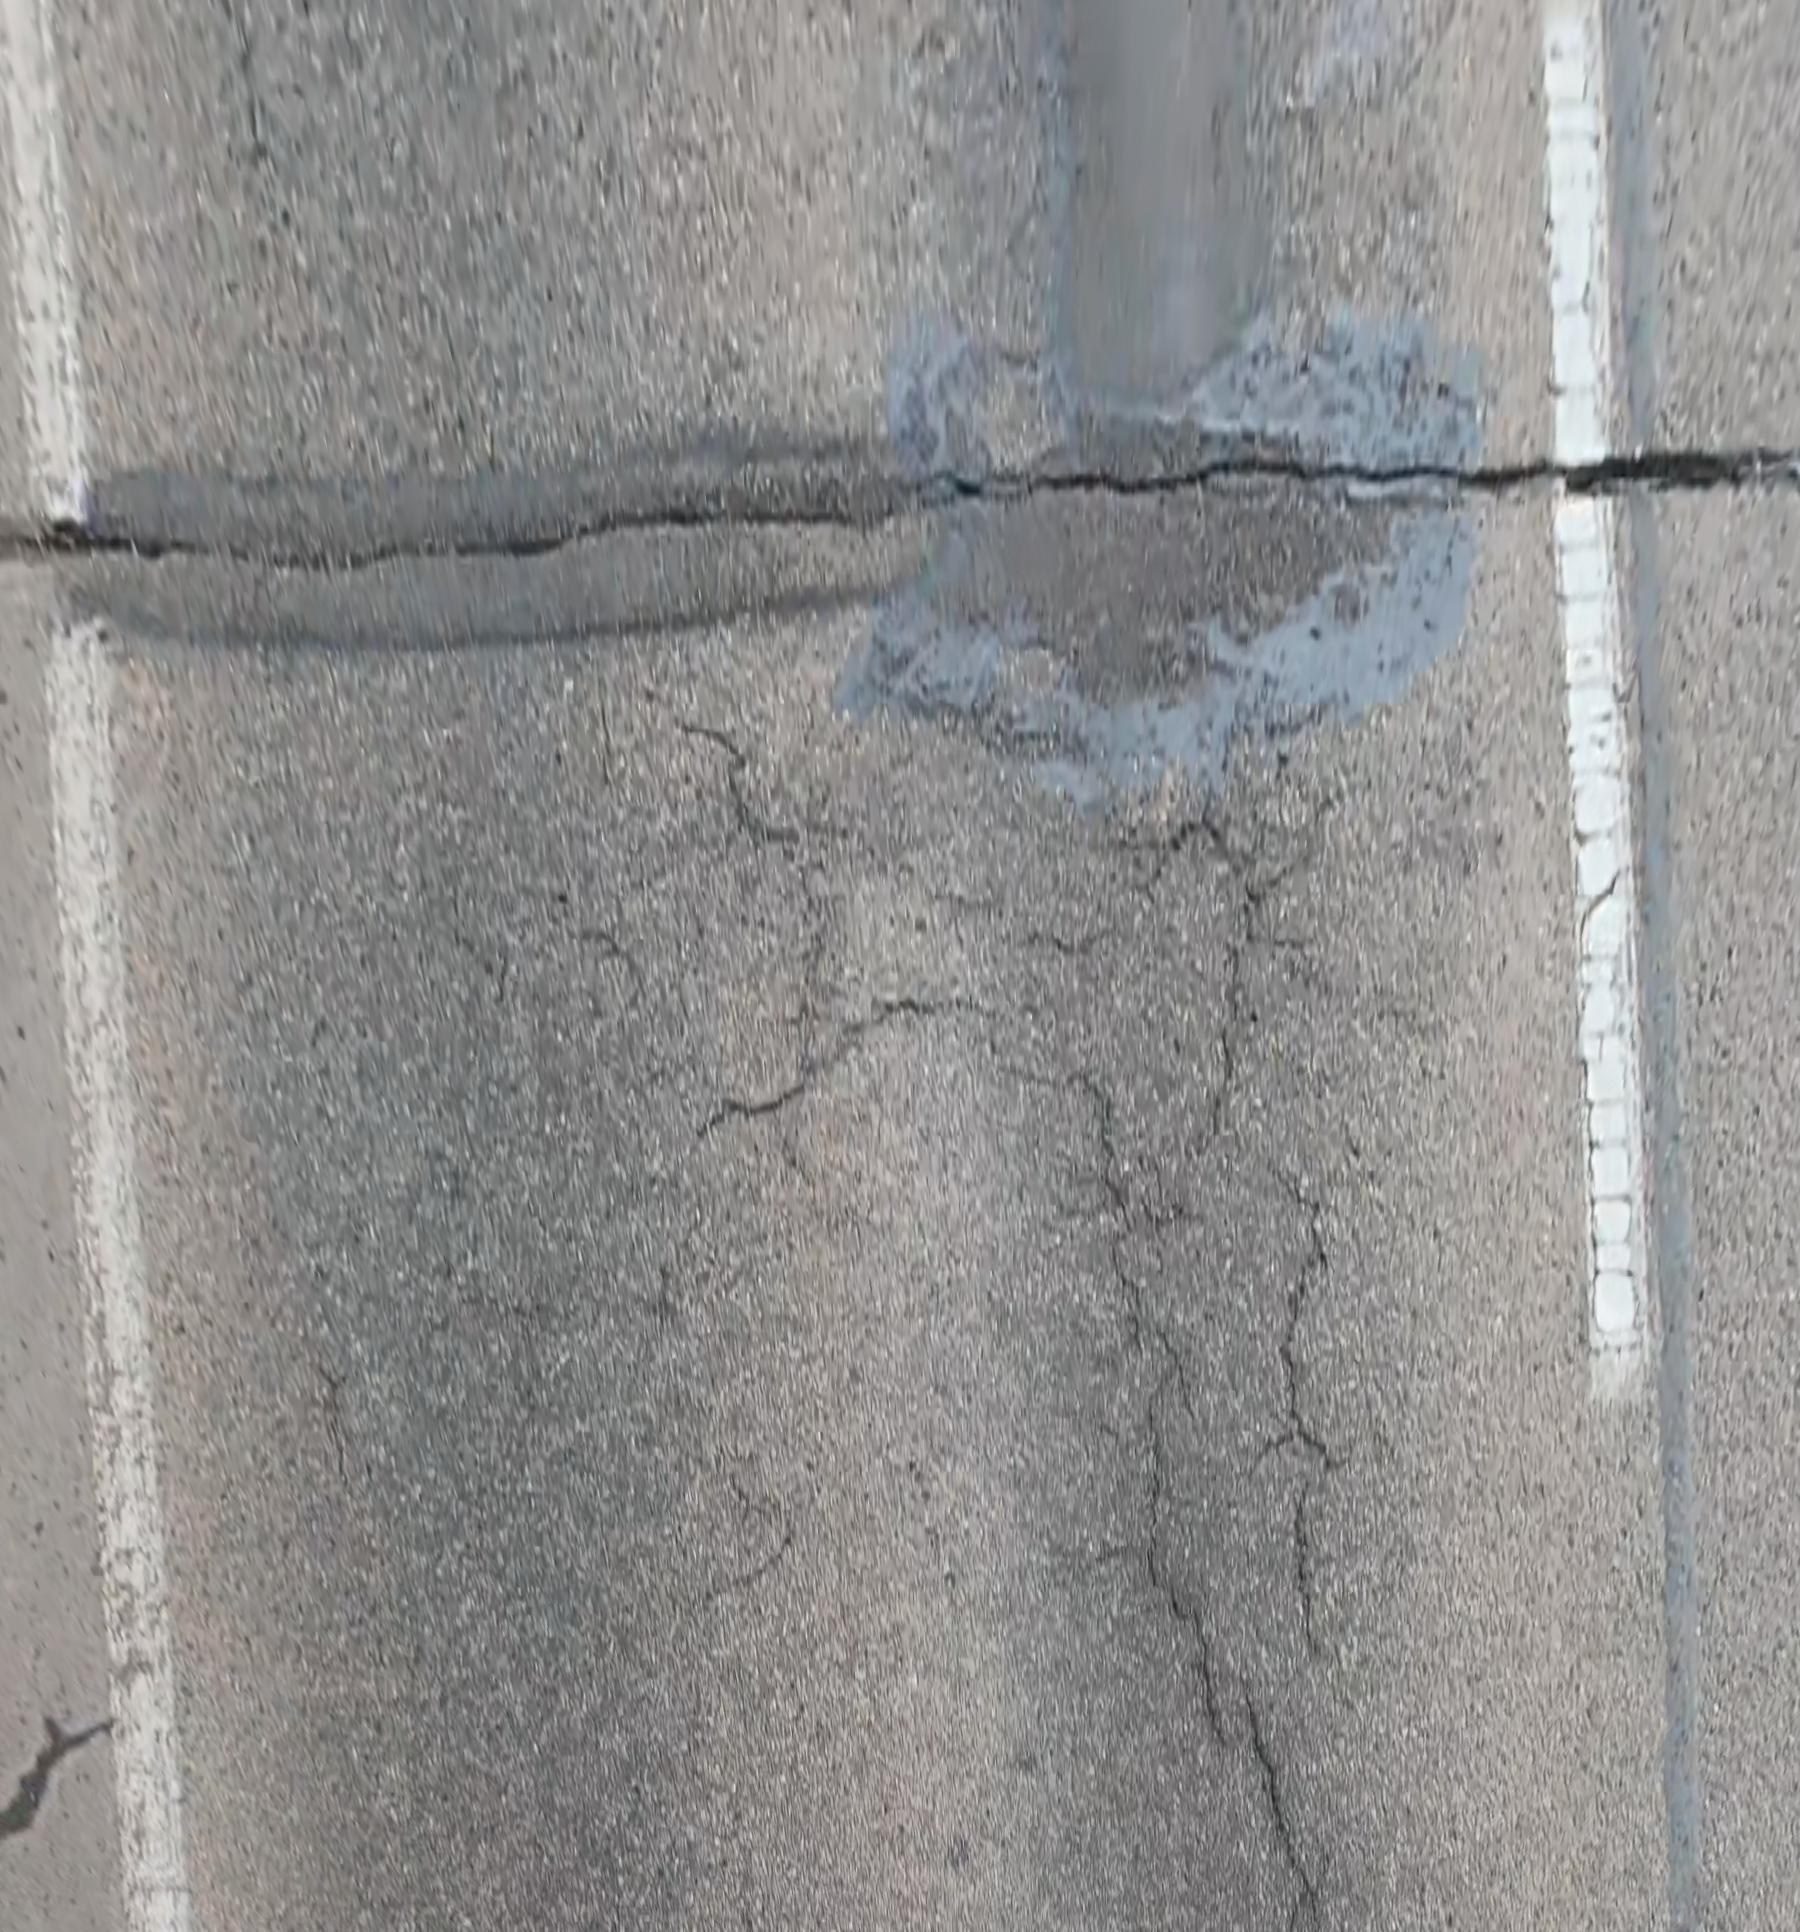pothole_patch_good: (1066, 0, 1250, 399)
pothole_patch_poor: (837, 316, 1484, 810), (47, 450, 919, 650)
